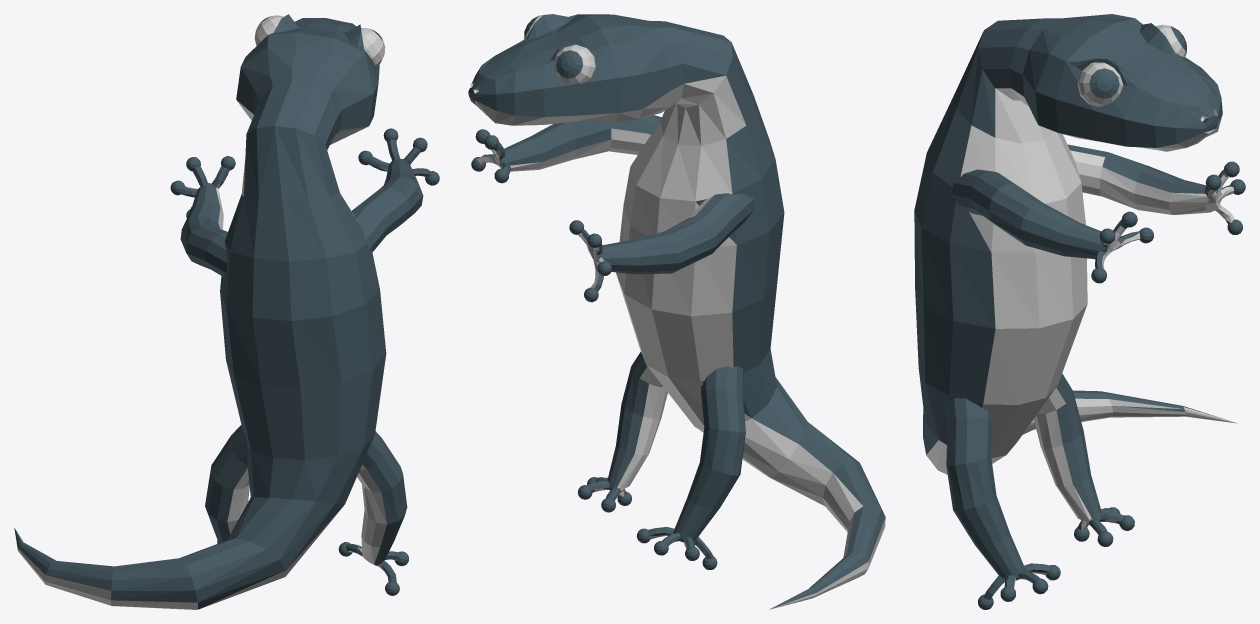
File: newt.obj
3 views of the same model, side by side, from view 1: azimuth 30°, elevation 25°; view 2: azimuth 150°, elevation 25°; view 3: azimuth 270°, elevation 25° (orthographic). The views are drawn at different scales.
Visible parts, largest first — view 1: group535469083, group96492099, group1205210047, group975027608, group1418471640, group841389794; view 2: group535469083, group1418471640, group975027608, group1205210047, group96492099, group515132811; view 3: group535469083, group96492099, group1205210047, group975027608, group1418471640, group841389794, group515132811.
Boxes of the visible parts, <box> form: group535469083: <box>14,14,386,609</box>; group96492099: <box>346,431,407,582</box>; group1205210047: <box>352,139,432,252</box>; group975027608: <box>179,166,229,276</box>; group1418471640: <box>205,425,249,543</box>; group841389794: <box>361,28,385,65</box>; group535469083: <box>468,14,885,609</box>; group1418471640: <box>648,366,745,559</box>; group975027608: <box>578,193,754,291</box>; group1205210047: <box>477,115,661,173</box>; group96492099: <box>586,351,667,500</box>; group515132811: <box>553,44,595,84</box>; group535469083: <box>914,14,1237,474</box>; group96492099: <box>946,398,1049,599</box>; group1205210047: <box>950,169,1140,269</box>; group975027608: <box>1068,144,1235,224</box>; group1418471640: <box>1033,373,1124,534</box>; group841389794: <box>1077,62,1123,106</box>; group515132811: <box>1155,24,1186,57</box>.
Size of the model in its own units: 2.45 by 3.13 by 1.65.
